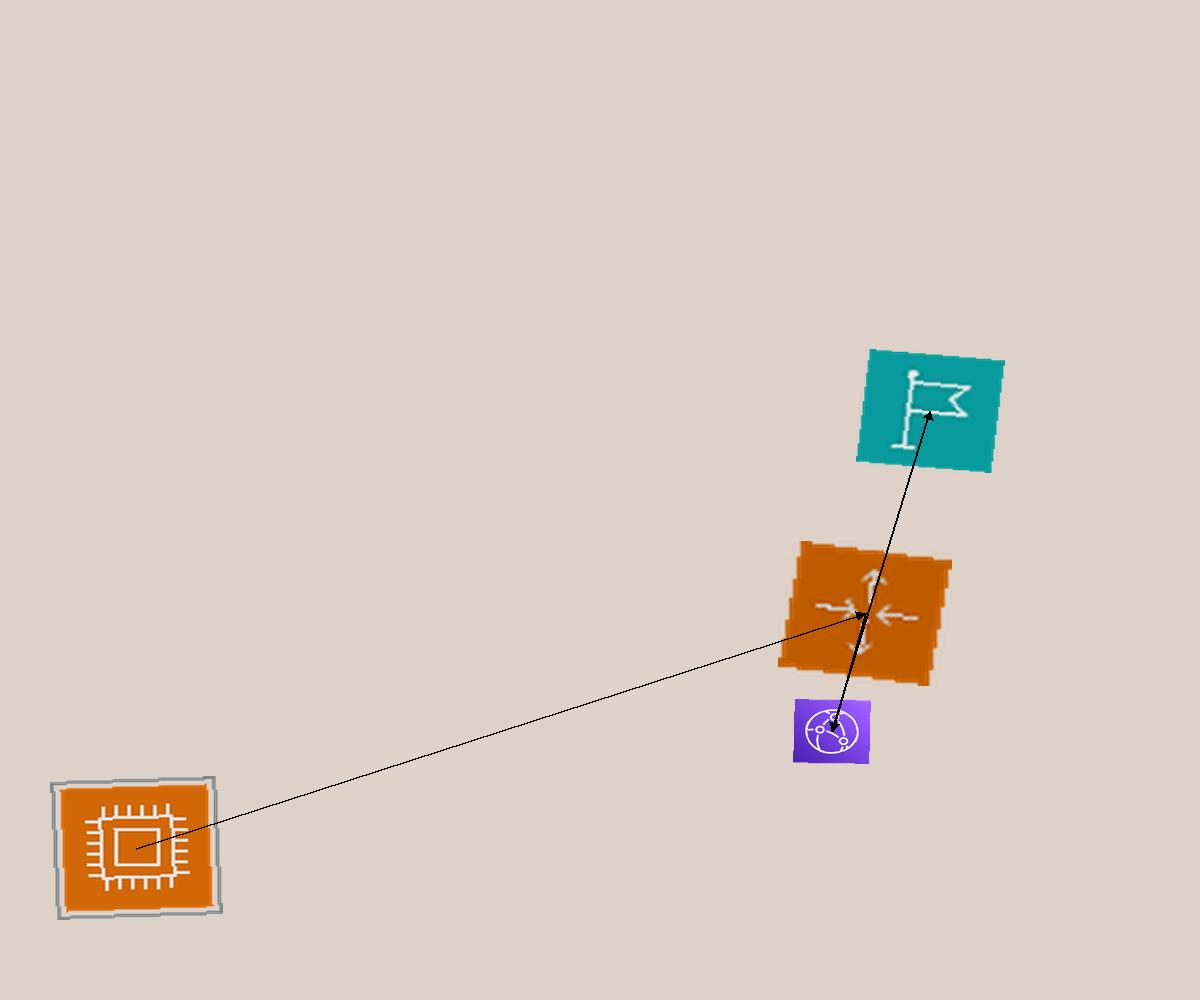AWS-Category_Compute: (50, 776, 223, 920)
AWS-CloudFront: (793, 699, 871, 764)
AWS-Region: (856, 349, 1005, 473)
AWS-Scaling-group: (778, 541, 952, 686)
